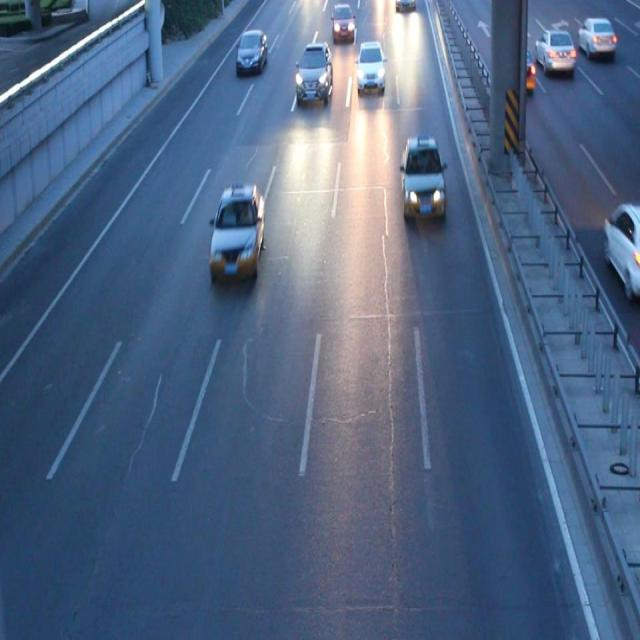car: (209, 184, 263, 281), (398, 136, 447, 222), (295, 43, 332, 104), (354, 40, 385, 94), (235, 28, 267, 74), (330, 1, 355, 43)
